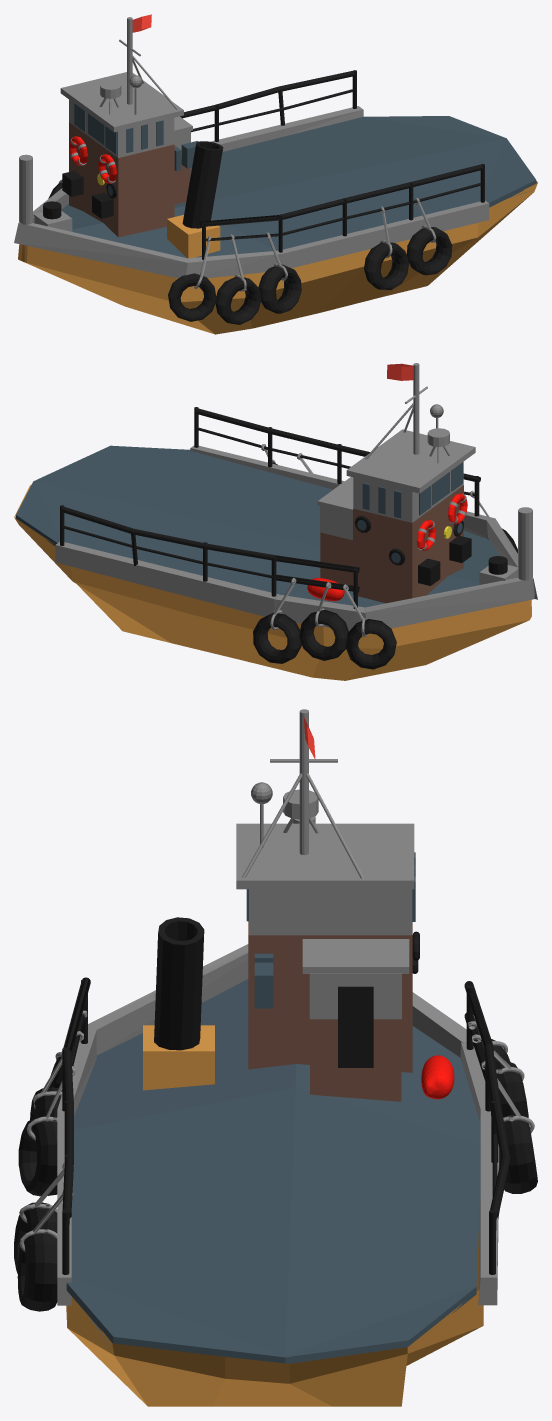
File: Boat1Vertical.fbx
The picture shows the model from 3 angles, top to bottom: view 1: azimuth 30°, elevation 25°; view 2: azimuth 150°, elevation 25°; view 3: azimuth 270°, elevation 25°; orthographic projection. The views are drawn at different scales.
Visible parts, largest first — view 1: Cube, Plane, group1483103472, group1688934664, group1070107753, group1630688789, group727606289, group1646897682, group1914773472, group1961124225, group1868669507, group1006261890 (+16 smaller); view 2: Cube, Plane, group1483103472, group1646897682, group1630688789, group1207921442, group1935290195, group1721645565, group9248939, group1777427870, group1268774600, group1688934664 (+22 smaller); view 3: Cube, Plane, group1630688789, group1483103472, group1935290195, group727606289, group940573650, group1070107753, group1491409755, group1382559894, group1545471277, group1813564886 (+15 smaller).
Part boxes in pixels (box(x1,y1,x2,y2)): Cube: box(61, 116, 536, 257); Plane: box(18, 181, 537, 334); group1483103472: box(69, 122, 174, 237); group1688934664: box(281, 200, 489, 268); group1070107753: box(14, 222, 187, 278); group1630688789: box(60, 72, 183, 132); group727606289: box(182, 141, 223, 228); group1646897682: box(210, 106, 363, 151); group1914773472: box(186, 250, 282, 278); group1961124225: box(199, 164, 483, 226); group1868669507: box(364, 242, 408, 289); group1006261890: box(258, 264, 301, 313); Cube: box(16, 445, 499, 607); Plane: box(14, 485, 531, 680); group1483103472: box(353, 485, 463, 603); group1646897682: box(55, 542, 279, 616); group1630688789: box(346, 429, 475, 493); group1207921442: box(364, 577, 534, 628); group1935290195: box(353, 462, 463, 522); group1721645565: box(253, 613, 301, 663); group9248939: box(345, 619, 396, 669); group1777427870: box(299, 609, 348, 660); group1268774600: box(274, 595, 366, 630); group1688934664: box(190, 445, 344, 489); Cube: box(66, 979, 480, 1363); Plane: box(66, 1217, 483, 1406); group1630688789: box(236, 823, 414, 889); group1483103472: box(248, 921, 412, 1072); group1935290195: box(249, 889, 412, 935); group727606289: box(154, 917, 204, 1050); group940573650: box(310, 1019, 401, 1101); group1070107753: box(88, 944, 248, 1055); group1491409755: box(302, 939, 409, 973); group1382559894: box(143, 1025, 214, 1090); group1545471277: box(309, 973, 401, 1019); group1813564886: box(338, 986, 373, 1067).
Size of the model in its own units: 399 by 230 by 222.
